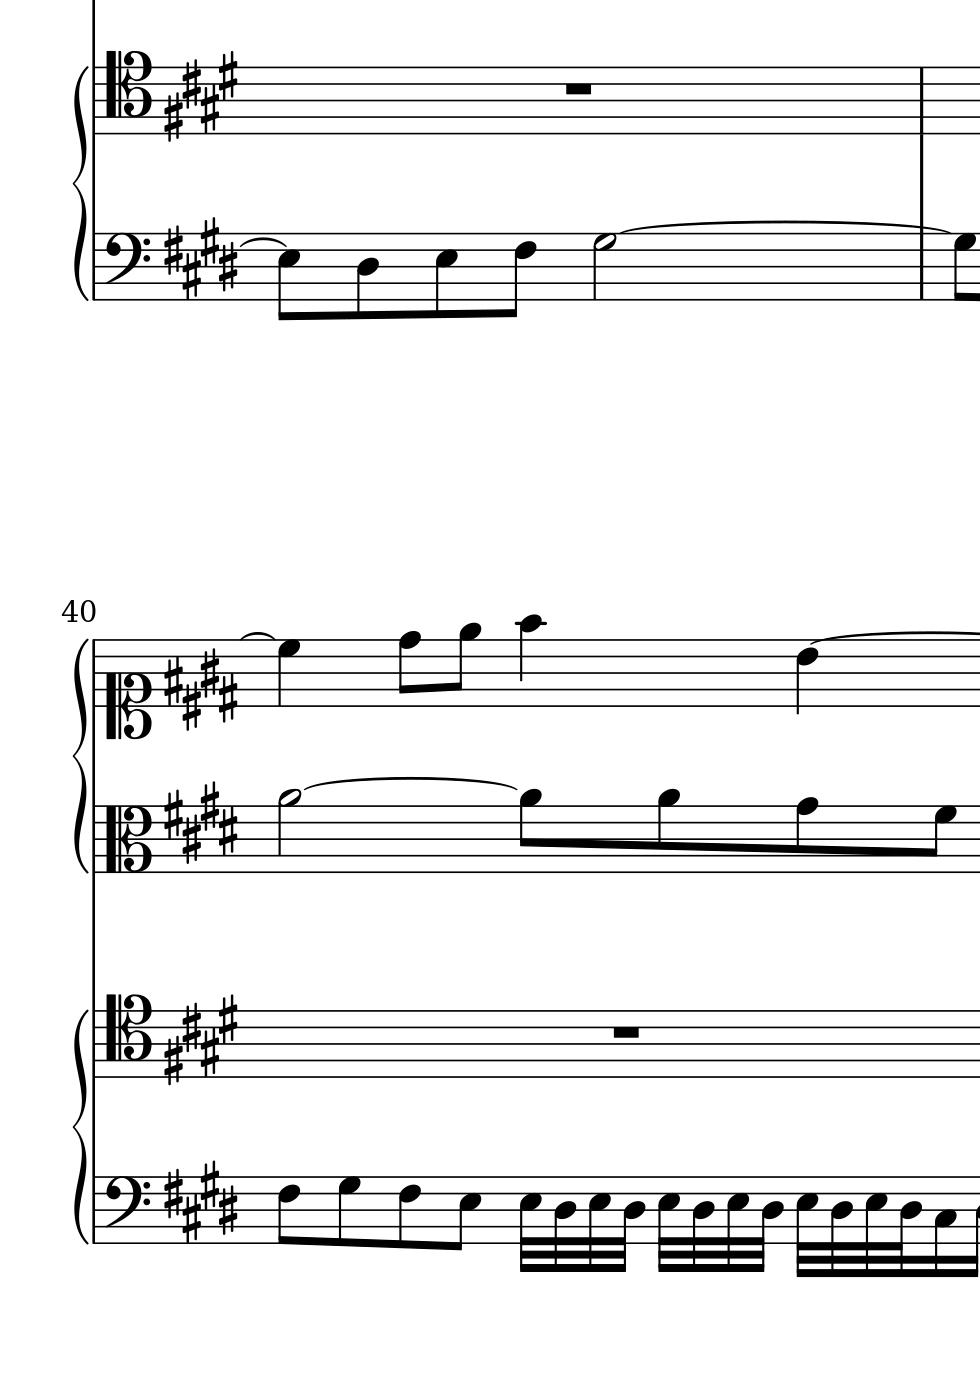0: (78, 597, 97, 625)
16_3: (931, 1174, 958, 1280)
2_7: (590, 230, 618, 301)
2_9: (275, 788, 300, 875)
32_4: (892, 1176, 922, 1277), (616, 1175, 646, 1275), (754, 1176, 784, 1273), (552, 1177, 578, 1273), (828, 1177, 853, 1278), (690, 1177, 715, 1274)
32_5: (793, 1173, 818, 1280), (862, 1173, 887, 1279), (517, 1174, 542, 1274), (724, 1173, 749, 1275), (587, 1173, 611, 1274), (655, 1173, 680, 1274)
4: (62, 598, 78, 626)
4_10: (517, 614, 543, 709)
4_6: (793, 636, 820, 717)
4_7: (274, 638, 300, 710)
8_4: (353, 229, 380, 322)
8_5: (448, 1175, 482, 1252), (432, 231, 458, 320), (275, 230, 300, 322)
8_6: (502, 231, 536, 320), (396, 1175, 422, 1252), (275, 1175, 301, 1248)
8_7: (926, 804, 956, 874), (336, 1175, 361, 1249), (951, 231, 976, 303)
8_8: (396, 629, 421, 709), (793, 795, 818, 875)
8_9: (448, 621, 482, 708), (517, 788, 542, 875), (655, 788, 680, 875)
Brace: (70, 635, 90, 881), (70, 58, 90, 302), (71, 1002, 90, 1245)
Cclef: (102, 803, 152, 876)
E_S: (164, 48, 240, 142), (162, 995, 239, 1087), (163, 646, 241, 729), (163, 782, 241, 862), (163, 1159, 239, 1242), (163, 217, 238, 299)
Fclef: (102, 230, 151, 302), (102, 1175, 151, 1247)
Rests1: (608, 1022, 644, 1042), (560, 78, 596, 98)
Single_barline: (912, 234, 931, 300), (913, 67, 930, 134), (88, 66, 103, 137), (88, 1010, 102, 1080), (88, 641, 102, 707), (89, 804, 102, 876), (89, 1177, 102, 1244), (89, 234, 101, 301)
Slur: (616, 220, 953, 234), (303, 775, 518, 793), (242, 236, 288, 249), (239, 631, 275, 641)
Soprano_Cclef: (104, 637, 150, 743)
Tensor_Cclef: (103, 992, 153, 1078), (104, 49, 153, 137)
